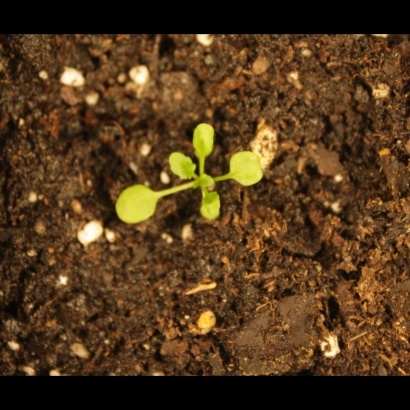leaf: (110, 183, 162, 229), (225, 146, 273, 193), (187, 118, 222, 165), (162, 150, 202, 183), (197, 190, 226, 218), (197, 169, 220, 192)
